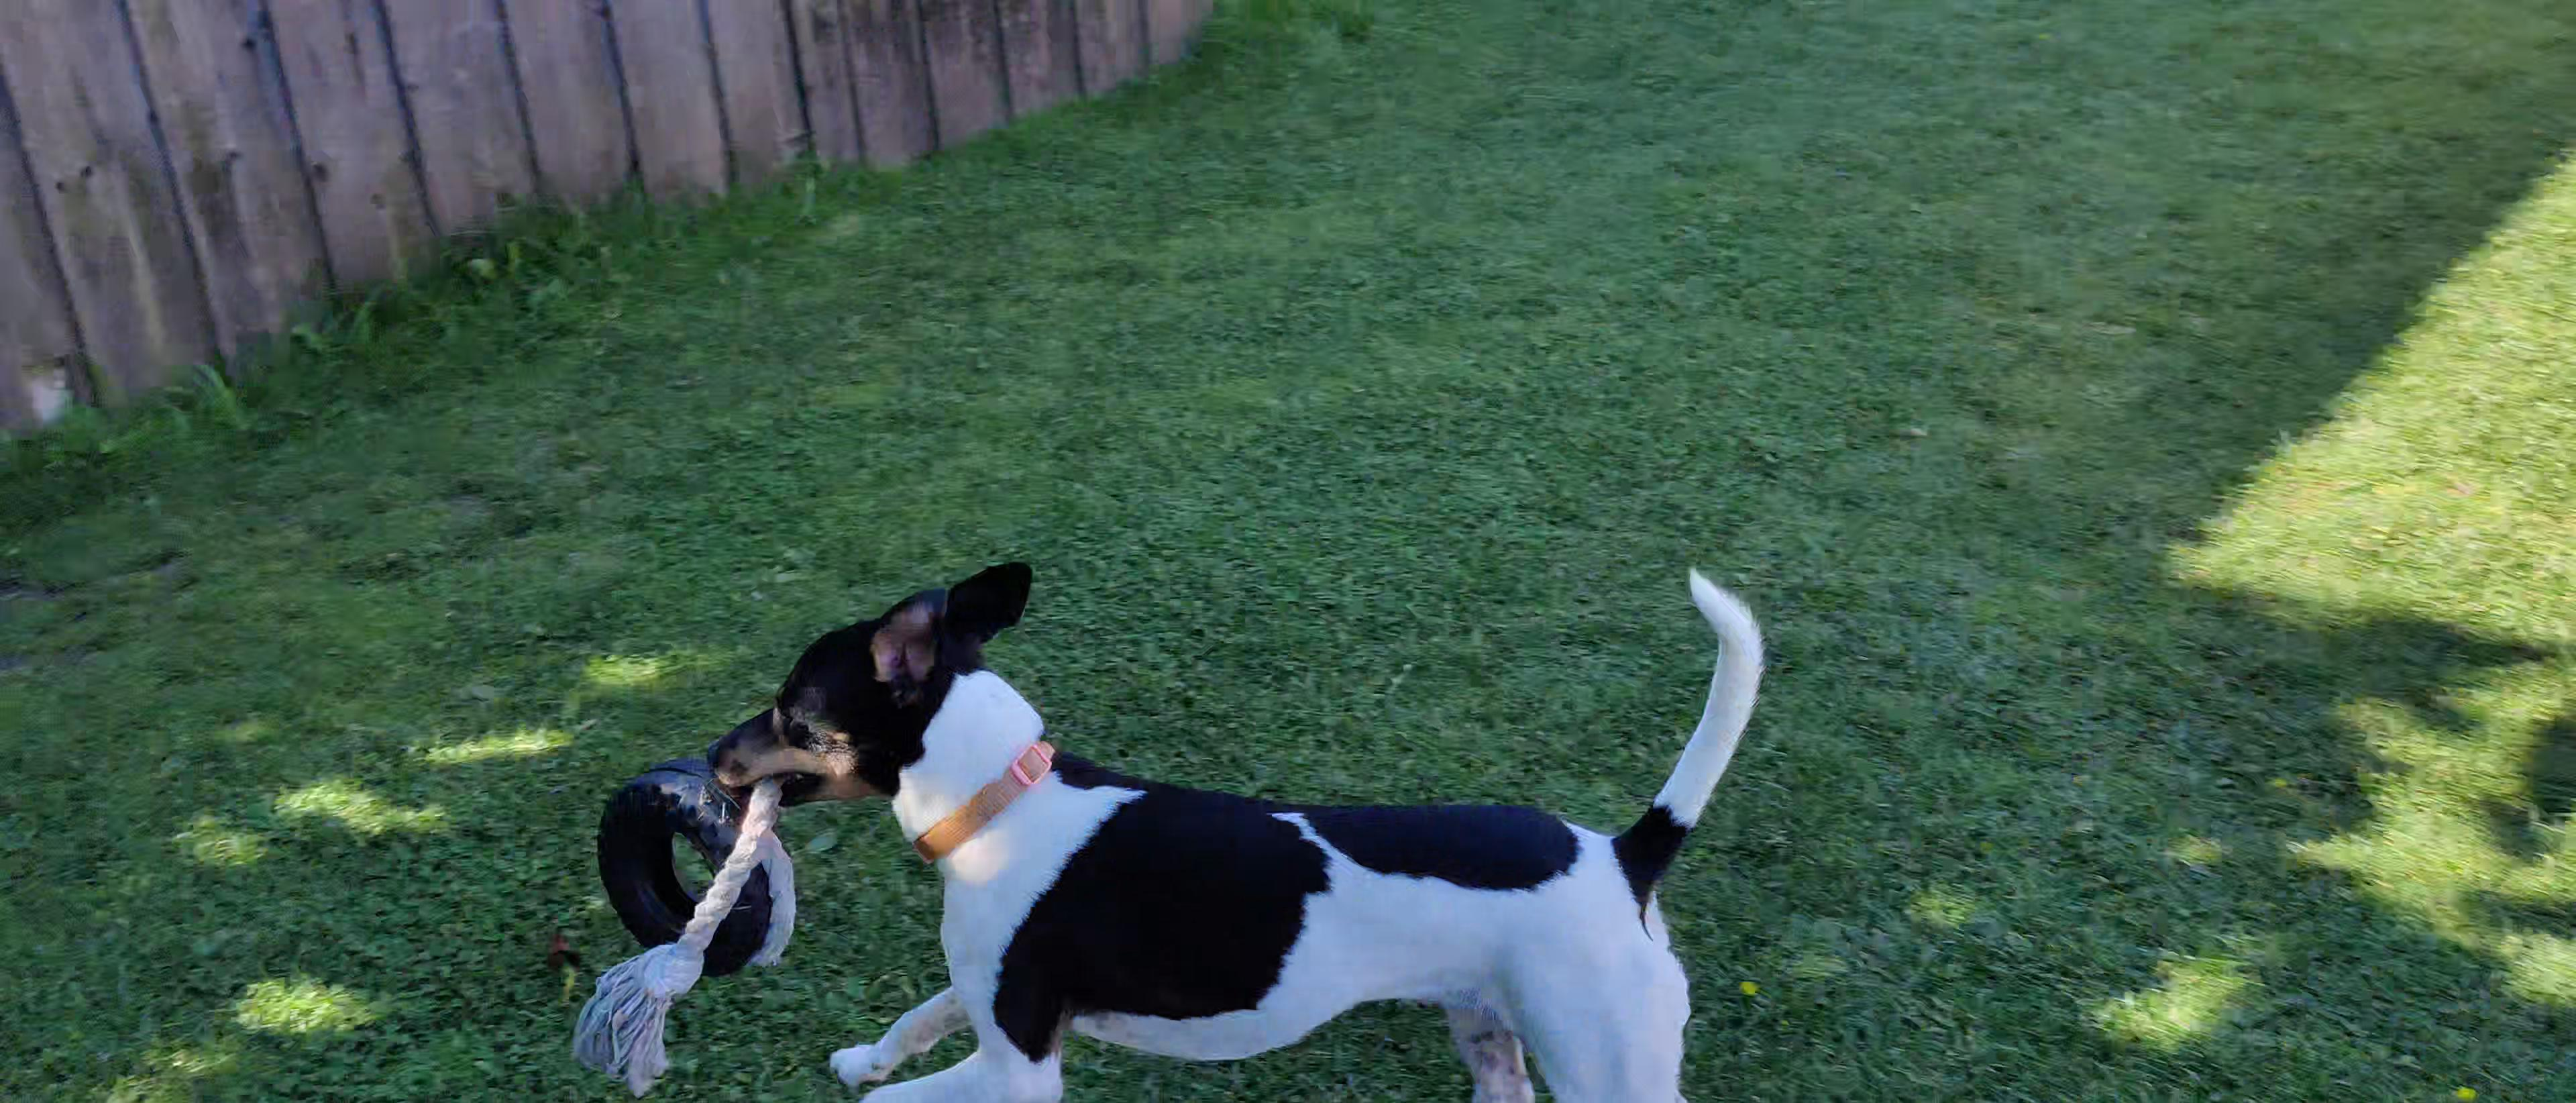Dog: (680, 526, 1807, 1103)
